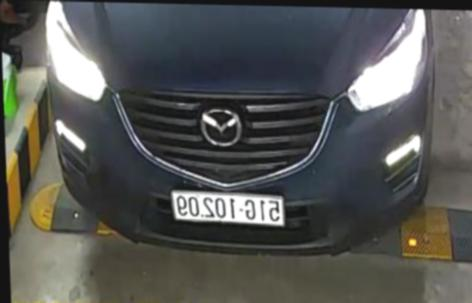License_Plate: (159, 186, 288, 235)
